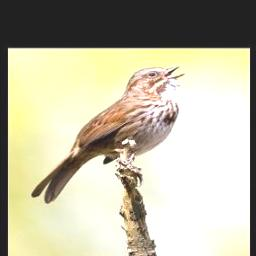Sparrow: (30, 62, 189, 205)
